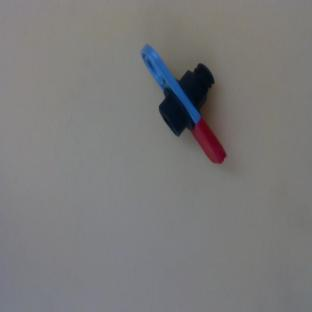part_1_good: (138, 28, 238, 176)
